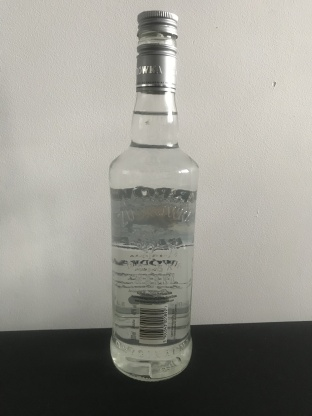nakretka: (135, 8, 179, 94)
